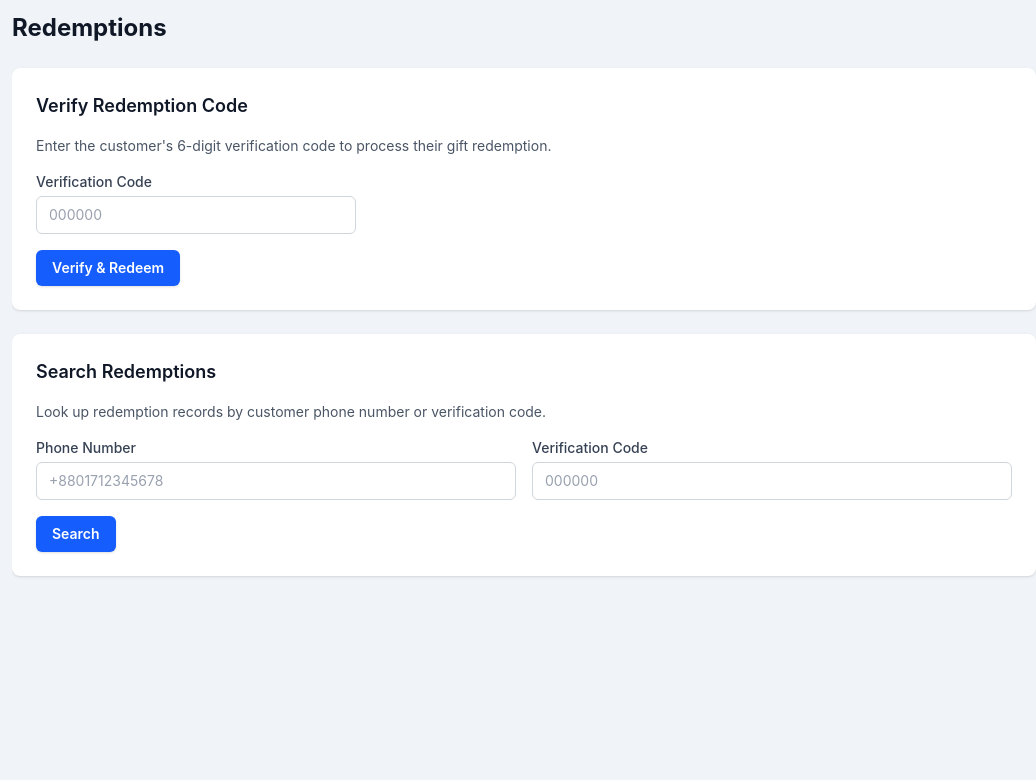
Test: RedemptionsPage › Verification Form › shows error when submitting empty code
This screenshot has width=1036, height=780.
Click the button "Verify & Redeem" at {"x": 108, "y": 268}, box [36,250,180,286]
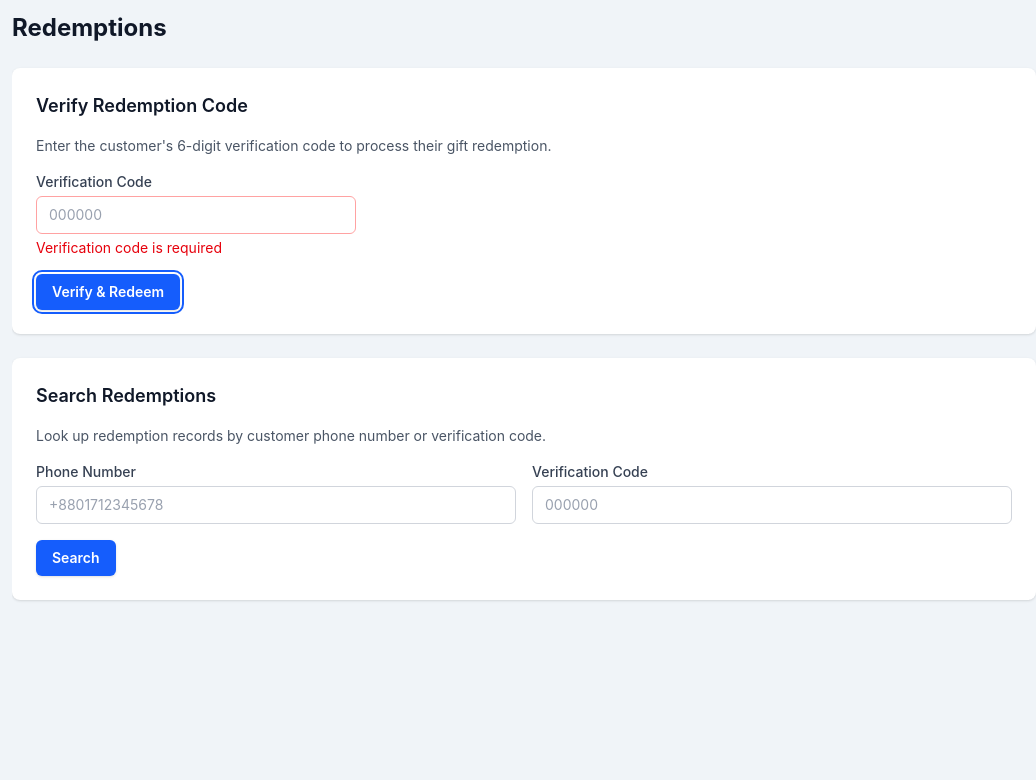
Expected: the text "Verification code is required" is shown, [36,239,222,256]
